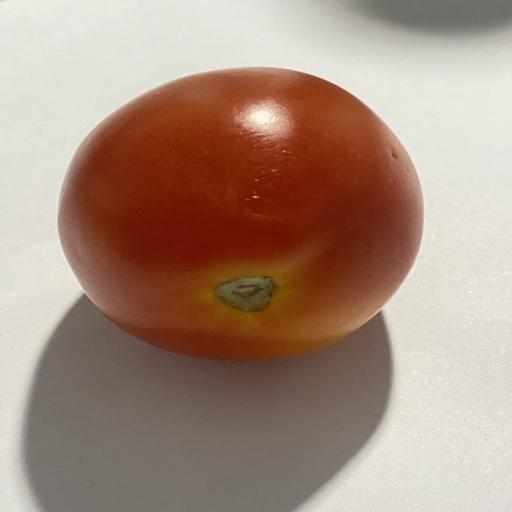ripe: (58, 68, 423, 360)
